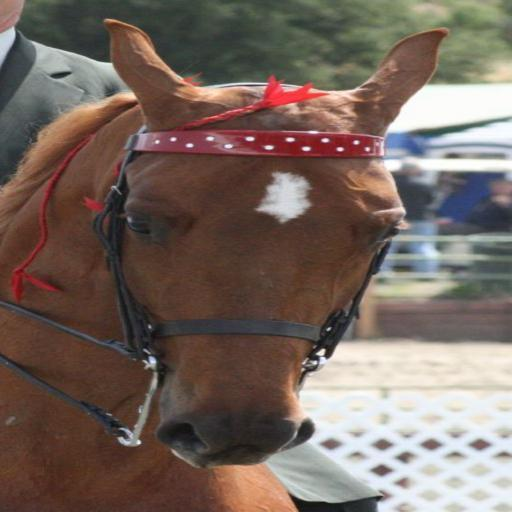horse: (0, 16, 451, 512)
